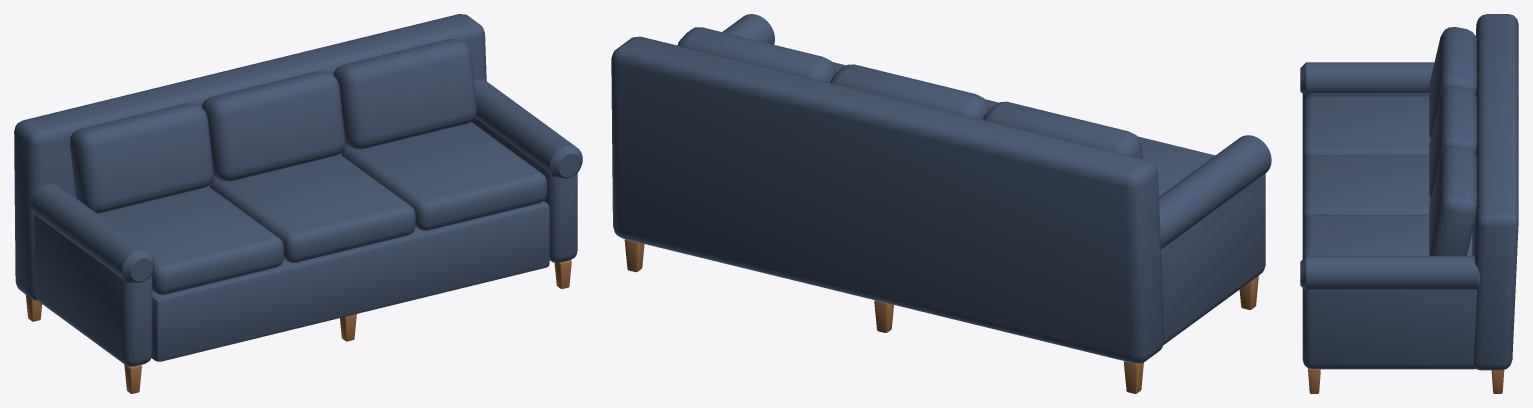
The model's file is Sofa.fbx.
3 views of the same model, side by side, from view 1: azimuth 30°, elevation 25°; view 2: azimuth 150°, elevation 25°; view 3: azimuth 270°, elevation 25° (orthographic). The views are drawn at different scales.
Visible parts, largest first — view 1: Sofa_Mesh; view 2: Sofa_Mesh; view 3: Sofa_Mesh.
Boxes of the visible parts, x1=… form: Sofa_Mesh: x1=14, y1=14, x2=582, y2=393; Sofa_Mesh: x1=611, y1=14, x2=1271, y2=393; Sofa_Mesh: x1=1300, y1=14, x2=1518, y2=393.
Bounding box in the file's own units: 2.1 × 0.8615 × 0.9282.
